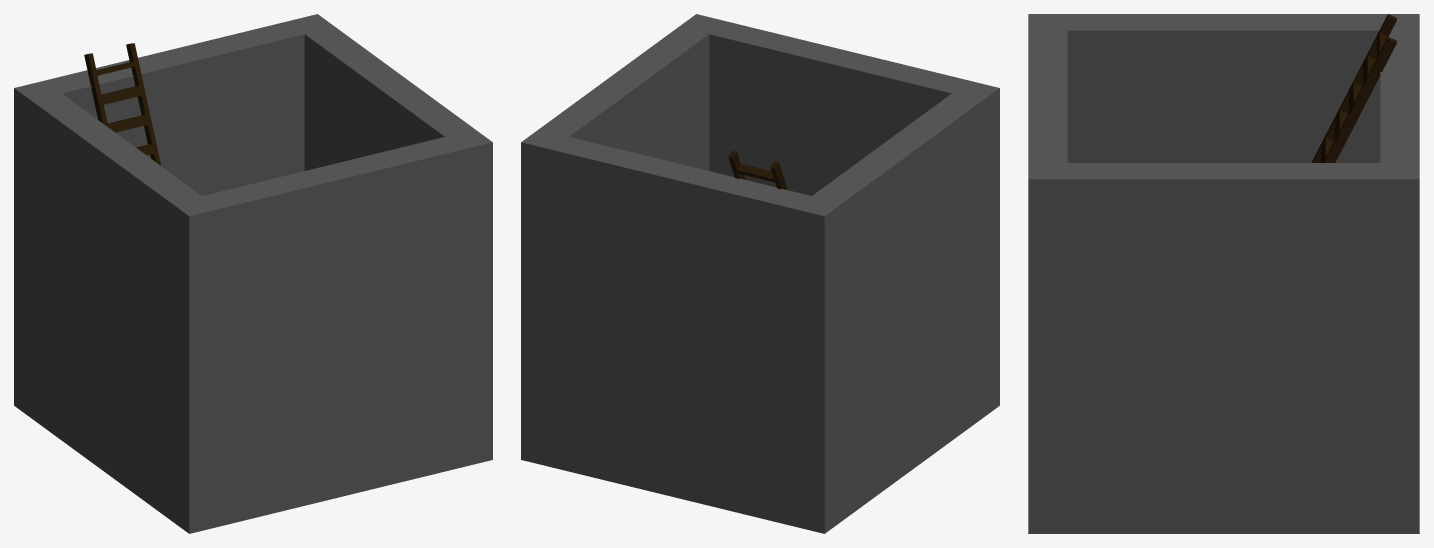
File: Quarry4.obj
The picture shows the model from 3 angles, left to right: view 1: azimuth 30°, elevation 25°; view 2: azimuth 150°, elevation 25°; view 3: azimuth 270°, elevation 25°; orthographic projection. The views are drawn at different scales.
Visible parts, largest first — view 1: Tilebase121, Ladder002; view 2: Tilebase121, Ladder002; view 3: Tilebase121, Ladder002.
Part boxes in pixels (bbox=[...]): Tilebase121: bbox=[14, 14, 492, 533]; Ladder002: bbox=[84, 43, 161, 165]; Tilebase121: bbox=[521, 14, 999, 533]; Ladder002: bbox=[728, 150, 787, 189]; Tilebase121: bbox=[1028, 14, 1419, 533]; Ladder002: bbox=[1311, 14, 1396, 162].
Size of the model in its own units: 10 by 10.92 by 10.
